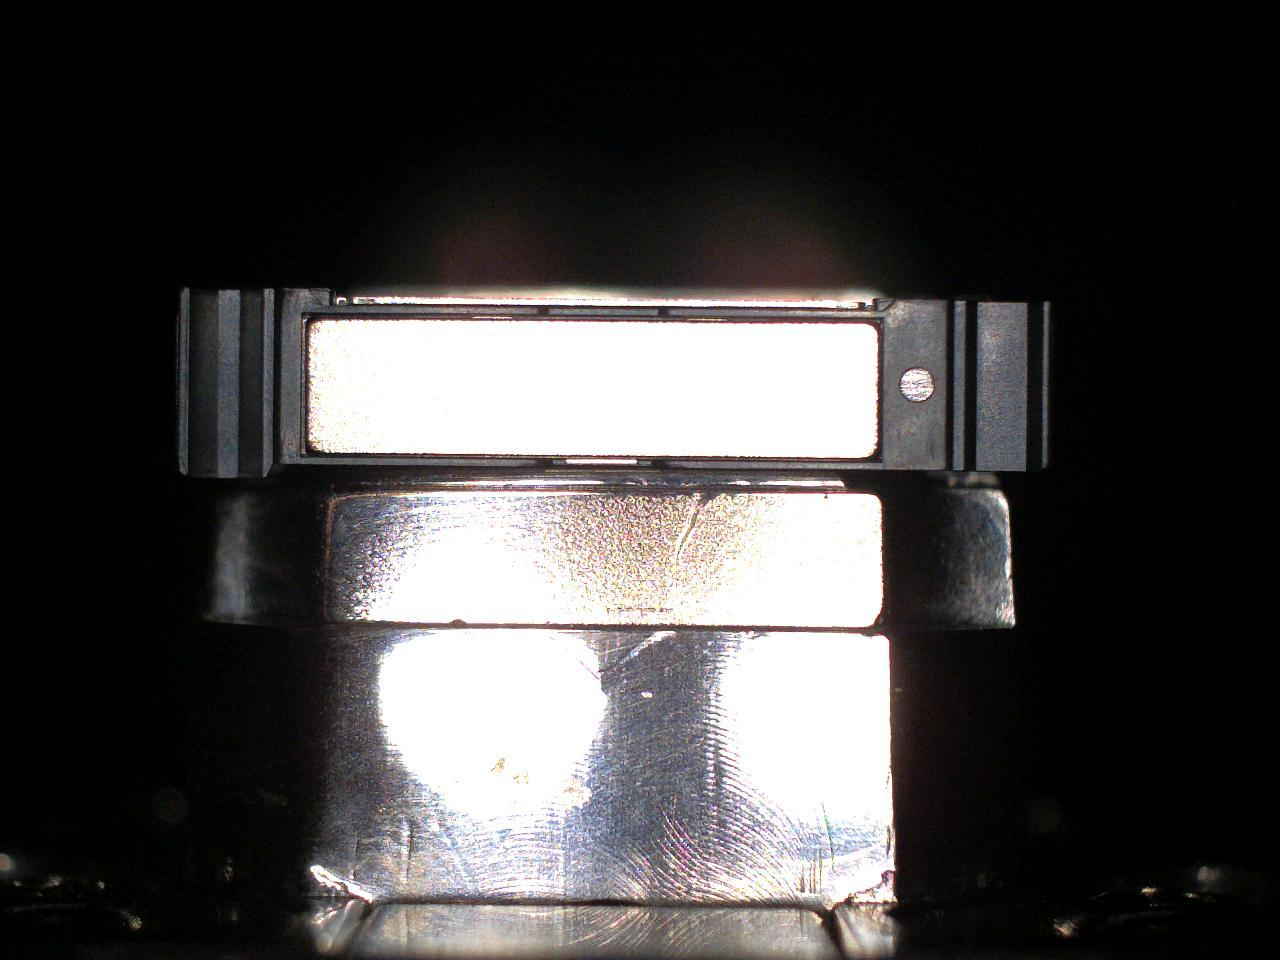frame: (178, 289, 1049, 479)
gap: (302, 313, 539, 321), (667, 317, 884, 324), (306, 453, 537, 459), (668, 457, 883, 463), (549, 315, 658, 322), (554, 456, 651, 460)
magnetic: (309, 319, 879, 459)
